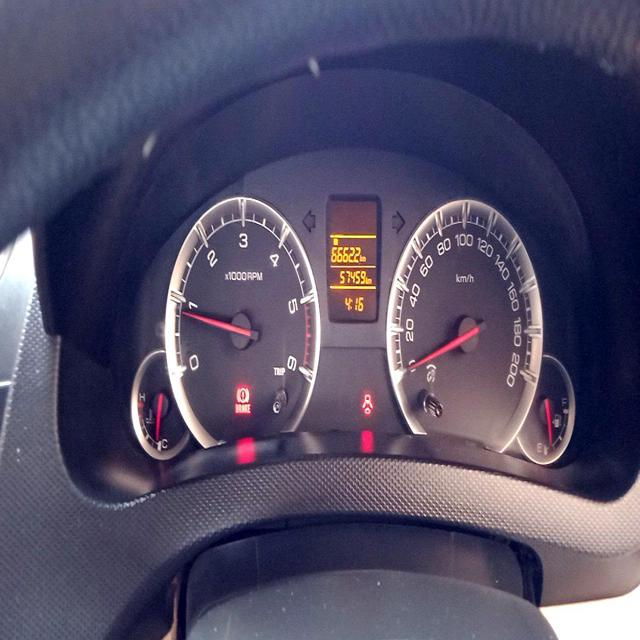odometer: (338, 266, 367, 287)
